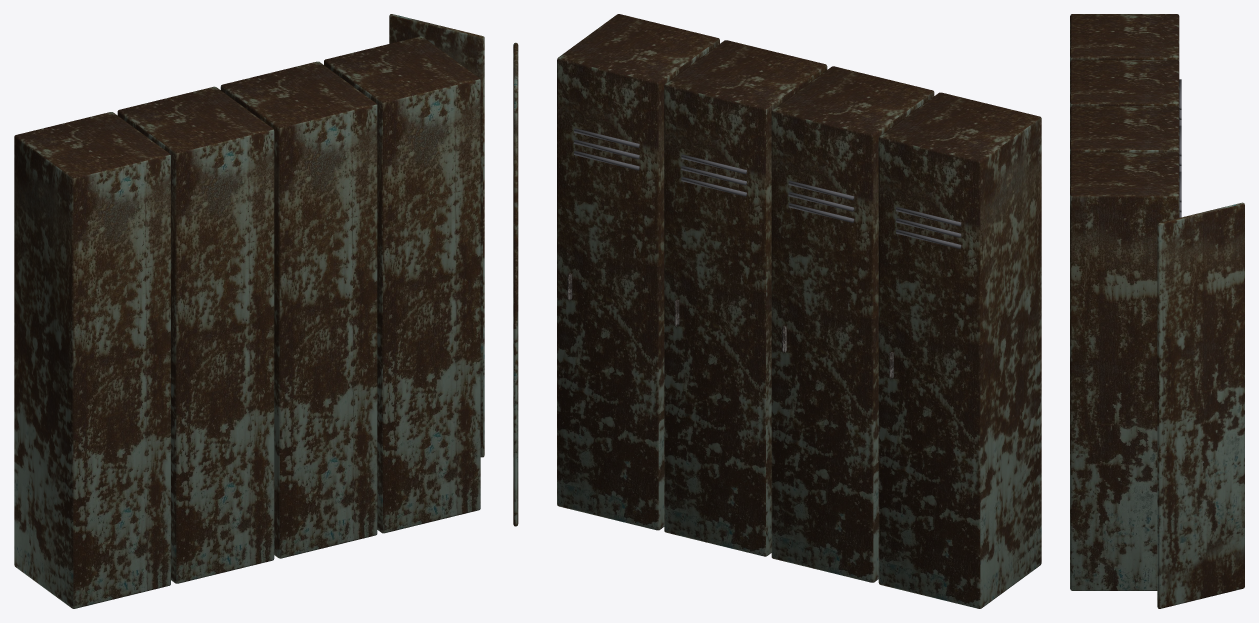
File: prop_lockers.glb
3 views of the same model, side by side, from view 1: azimuth 30°, elevation 25°; view 2: azimuth 150°, elevation 25°; view 3: azimuth 270°, elevation 25° (orthographic). The views are drawn at different scales.
Visible parts, largest first — view 1: Locker0, Locker1, Locker2, Locker3, OpenDoor; view 2: Locker0, Locker1, Locker2, Locker3, OpenDoor; view 3: Locker3, OpenDoor, Locker1, Locker2, Locker0.
Boxes of the visible parts, x1,y1,x2,y2 form: Locker0: (14,112,170,608); Locker1: (117,86,274,583); Locker2: (220,61,377,558); Locker3: (324,36,480,533); OpenDoor: (389,14,484,457); Locker0: (878,92,1041,608); Locker1: (771,66,934,582); Locker2: (664,40,827,556); Locker3: (557,14,719,530); OpenDoor: (513,42,518,526); Locker3: (1070,152,1179,590); OpenDoor: (1157,202,1244,608); Locker1: (1070,60,1179,107); Locker2: (1070,106,1179,153); Locker0: (1070,14,1179,61).
Bounding box in the file's own units: 2.23 × 2 × 0.8002.
Materials: 3 (2 with a texture image).
